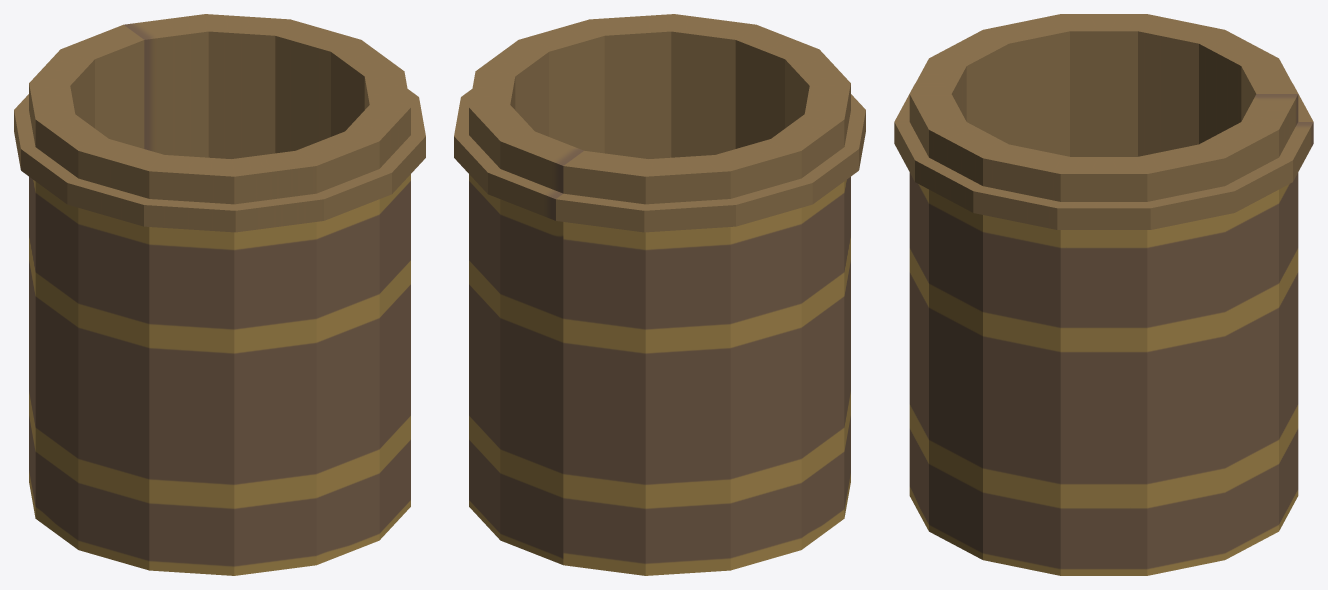
Rendered from Barrel.fbx.
The picture shows the model from 3 angles, left to right: view 1: azimuth 30°, elevation 25°; view 2: azimuth 150°, elevation 25°; view 3: azimuth 270°, elevation 25°; orthographic projection.
Visible parts, largest first — view 1: Cylinder; view 2: Cylinder; view 3: Cylinder.
Part boxes in pixels (x1=…): Cylinder: x1=14, y1=14, x2=425, y2=575; Cylinder: x1=454, y1=14, x2=865, y2=575; Cylinder: x1=894, y1=14, x2=1313, y2=575.
Size of the model in its own units: 210 by 228 by 216.
